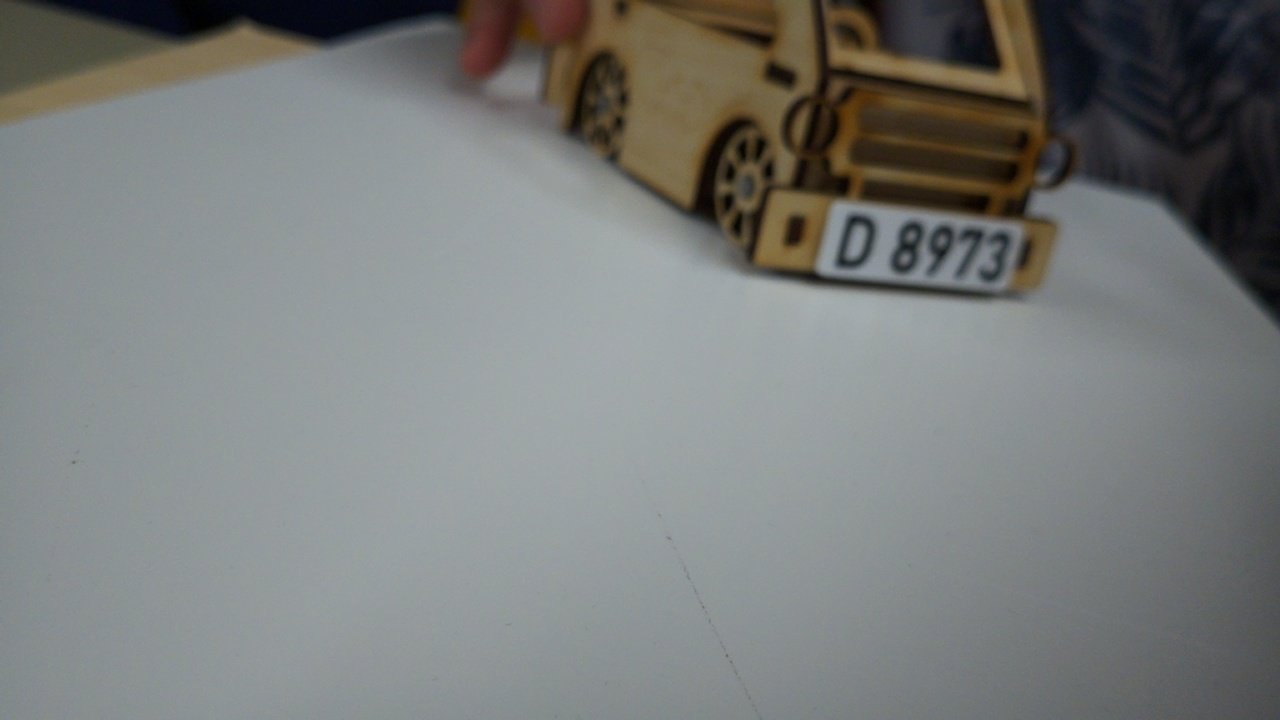license_plate: (811, 196, 1026, 297)
